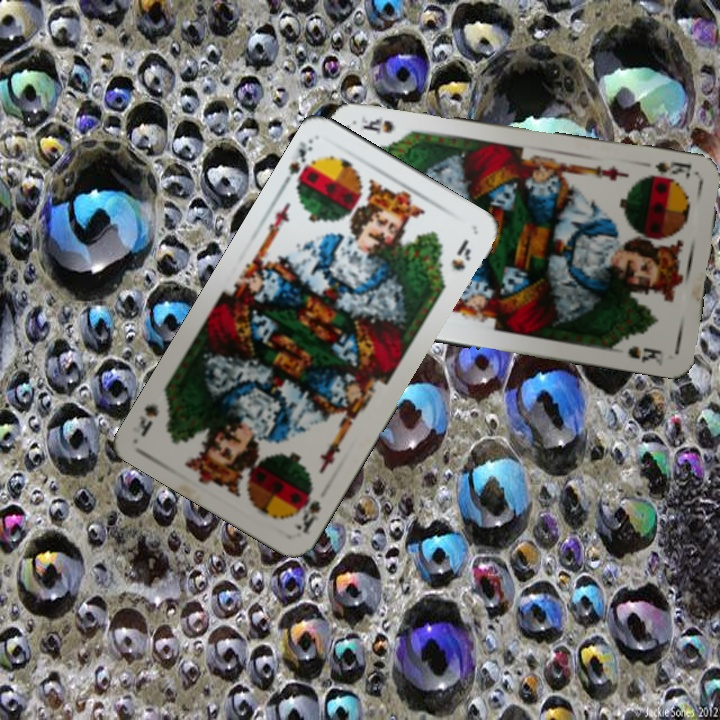SK: (278, 135, 318, 195), (289, 483, 324, 537), (651, 157, 695, 182)
